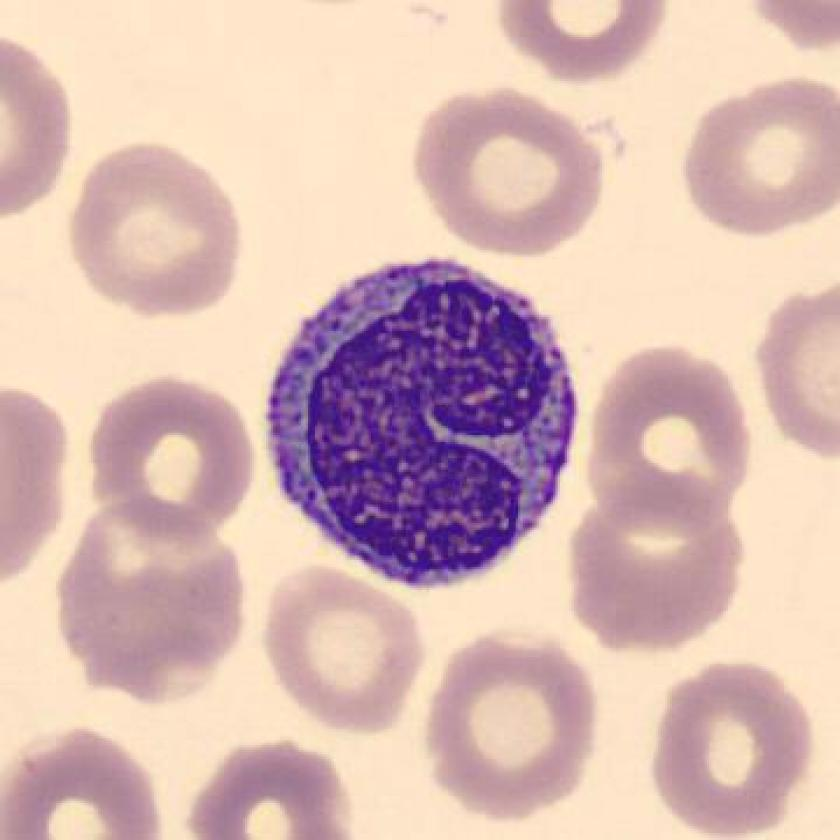monocyte: (251, 230, 598, 612)
